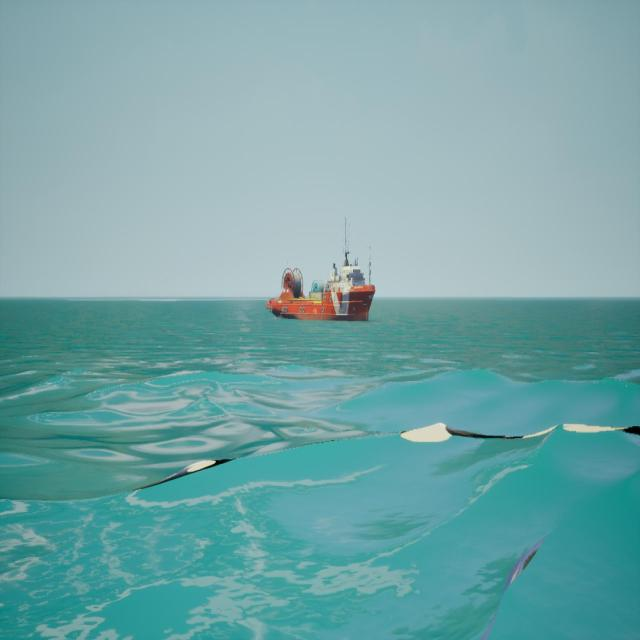tug boat: (271, 218, 376, 324)
